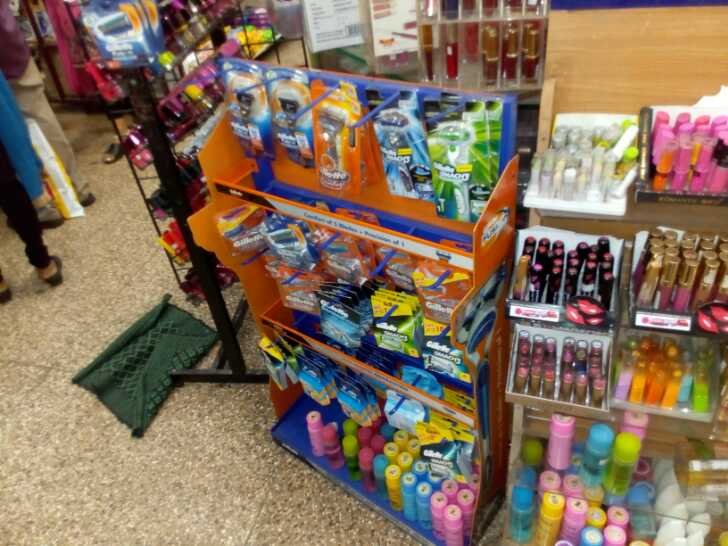beauty: (372, 113, 434, 203), (423, 106, 476, 211), (225, 74, 280, 161), (313, 100, 355, 194), (271, 81, 316, 168), (215, 217, 282, 270), (320, 291, 366, 351), (423, 321, 467, 379), (371, 293, 412, 353), (419, 427, 465, 478)
